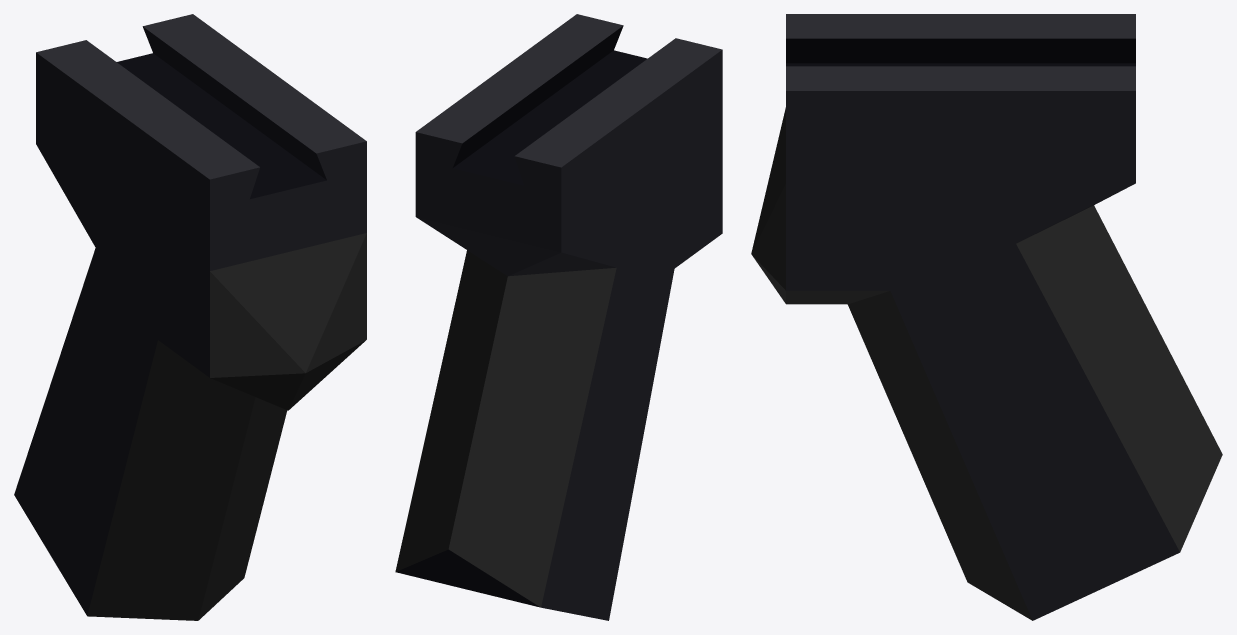
File: MW1_Device_Foregrip_02.fbx
3 renders of one model, left to right at view 1: azimuth 30°, elevation 25°; view 2: azimuth 150°, elevation 25°; view 3: azimuth 270°, elevation 25°, orthographic. The views are drawn at different scales.
Visible parts, largest first — view 1: Device_Foregrip_02; view 2: Device_Foregrip_02; view 3: Device_Foregrip_02.
Boxes of the visible parts, box(x1,y1,x2,y2) form: Device_Foregrip_02: box(14, 14, 366, 620); Device_Foregrip_02: box(395, 14, 722, 620); Device_Foregrip_02: box(751, 14, 1222, 620).
Size of the model in its own units: 2.79 by 8.95 by 7.22.
